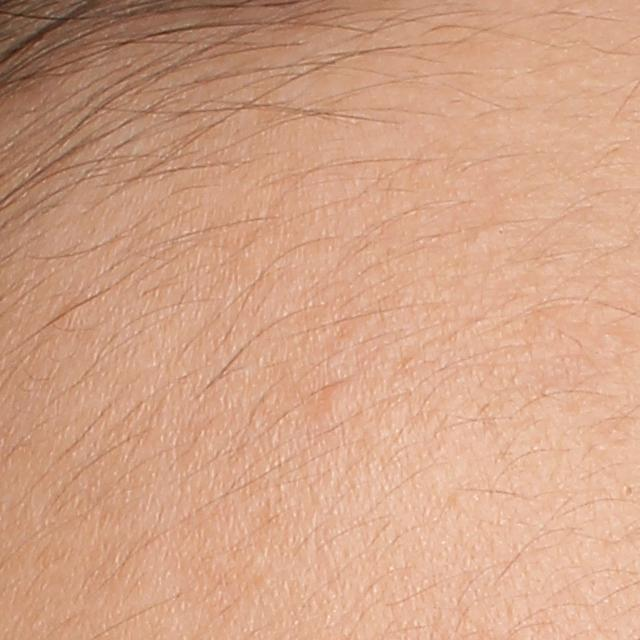comedo: (318, 382, 354, 419), (617, 480, 640, 503)
